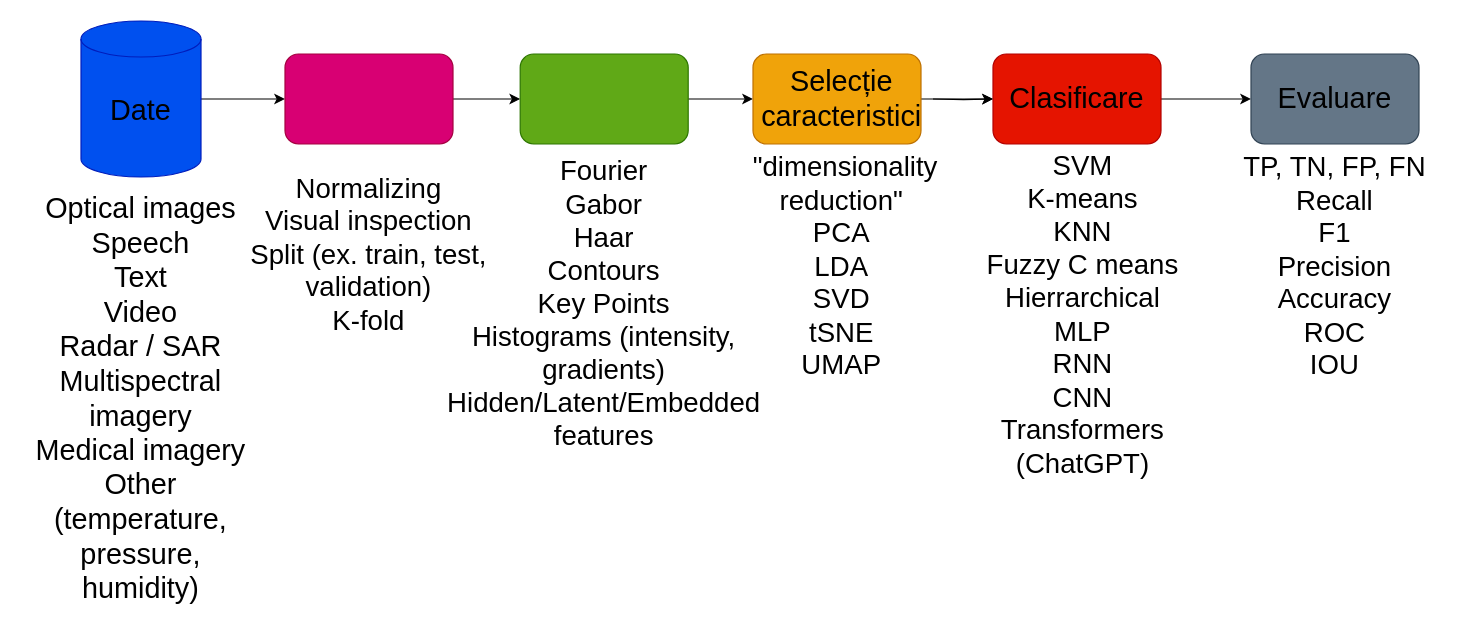
Some shapes in this 1481 by 628 pixel diagram are drawn without their labels. Here are the shapes that lost their labels. From the top down, the box of each, then its label:
(284, 53, 453, 144): Preprocesare
(519, 53, 688, 144): Extragere caracteristici
